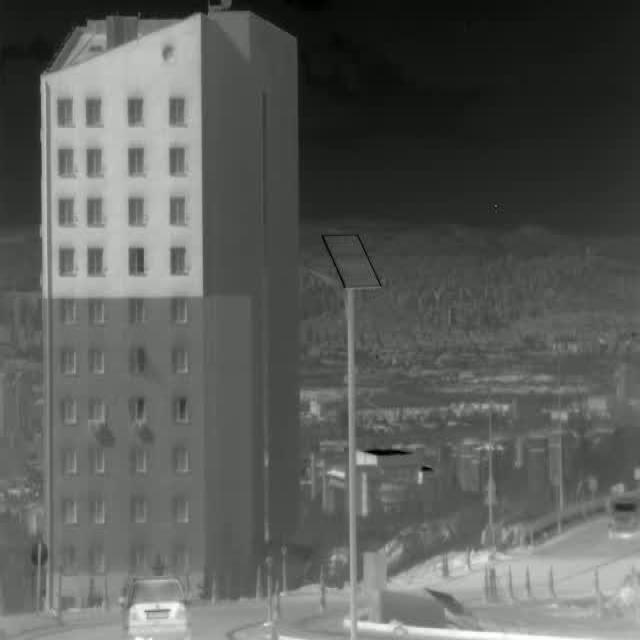Car: (122, 572, 192, 640), (605, 487, 640, 541)
